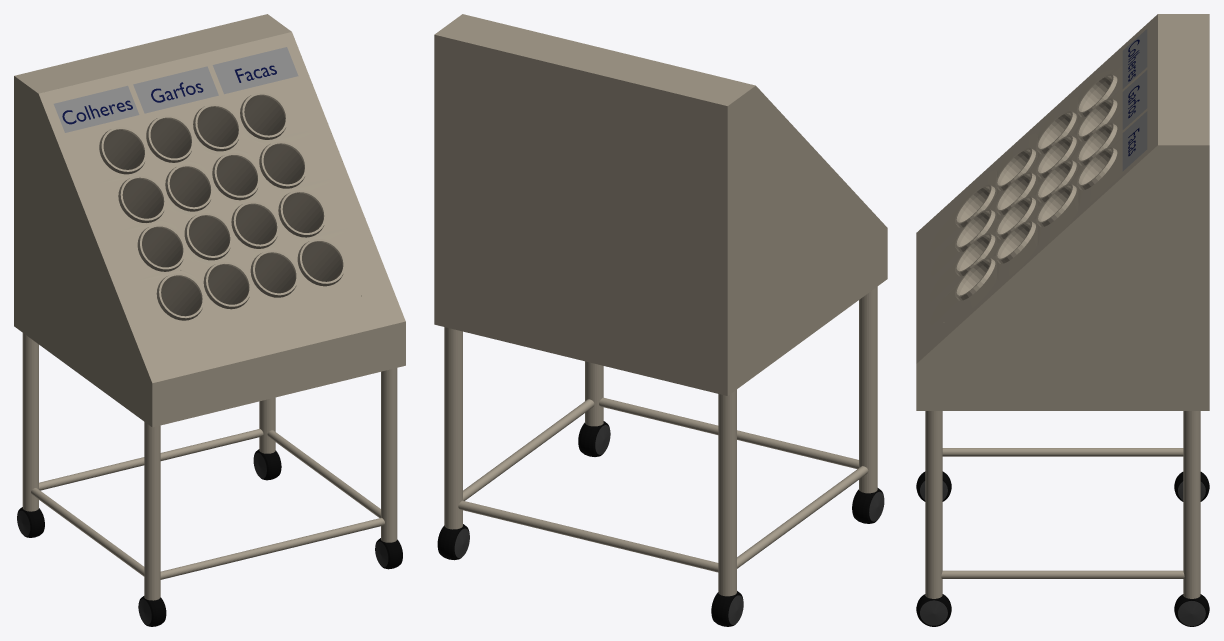
Rendered from Talheres.obj.
3 views of the same model, side by side, from view 1: azimuth 30°, elevation 25°; view 2: azimuth 150°, elevation 25°; view 3: azimuth 270°, elevation 25° (orthographic). The views are drawn at different scales.
Visible parts, largest first — view 1: Mesh.016_Mesh.031_Mesh.038_Mes, Mesh.024_Mesh.039_Mesh.031_Mes, Mesh.036_Mesh_Mesh.009_Circle., Mesh.017_Mesh.026_Mesh.013_Cir, Mesh_Mesh.015_Mesh.037_Cir, Mesh.005_Mesh.035_Mesh.014_Cir, Mesh.002_Mesh.002_Mesh.039_Cir, Mesh.003_Mesh.011_Mesh.002_Cir, Mesh.037_Mesh.029_Mesh.004_Cir, Mesh.025_Mesh.018_Mesh_Circle., Mesh.030_Mesh.004_Mesh.024_Cir, Mesh.010_Mesh.017_Mesh.008_Cir (+17 smaller); view 2: Mesh.016_Mesh.031_Mesh.038_Mes, Mesh.022_Mesh.033_Mesh.021_Cyl, Mesh.014_Mesh.014_Mesh.029_Cyl, Mesh.033_Mesh.006_Mesh.020_Cyl, Mesh.001_Mesh.023_Mesh.018_Cyl, Mesh.034_Mesh.037_Mesh.017_Cyl, Mesh.023_Mesh.022_Mesh.015_Cyl, Mesh.038_Mesh.001_Mesh.016_Cyl, Mesh.040_Mesh.019_Mesh.019_Cyl; view 3: Mesh.016_Mesh.031_Mesh.038_Mes, Mesh.024_Mesh.039_Mesh.031_Mes, Mesh.040_Mesh.019_Mesh.019_Cyl, Mesh.014_Mesh.014_Mesh.029_Cyl, Mesh.023_Mesh.022_Mesh.015_Cyl, Mesh.038_Mesh.001_Mesh.016_Cyl, Mesh.017_Mesh.026_Mesh.013_Cir, Mesh.036_Mesh_Mesh.009_Circle., Mesh.005_Mesh.035_Mesh.014_Cir, Mesh_Mesh.015_Mesh.037_Cir, Mesh.037_Mesh.029_Mesh.004_Cir, Mesh.003_Mesh.011_Mesh.002_Cir (+15 smaller).
Part boxes in pixels (x1,y1,x2,y2): Mesh.016_Mesh.031_Mesh.038_Mes: (14, 14, 405, 427); Mesh.024_Mesh.039_Mesh.031_Mes: (39, 32, 405, 383); Mesh.036_Mesh_Mesh.009_Circle.: (128, 270, 220, 353); Mesh.017_Mesh.026_Mesh.013_Cir: (293, 231, 369, 319); Mesh_Mesh.015_Mesh.037_Cir: (246, 131, 340, 198); Mesh.005_Mesh.035_Mesh.014_Cir: (230, 75, 316, 143); Mesh.002_Mesh.002_Mesh.039_Cir: (192, 252, 266, 341); Mesh.003_Mesh.011_Mesh.002_Cir: (247, 240, 314, 331); Mesh.037_Mesh.029_Mesh.004_Cir: (274, 181, 355, 248); Mesh.025_Mesh.018_Mesh_Circle.: (90, 170, 176, 232); Mesh.030_Mesh.004_Mesh.024_Cir: (108, 221, 195, 280); Mesh.010_Mesh.017_Mesh.008_Cir: (75, 116, 152, 183); Mesh.016_Mesh.031_Mesh.038_Mes: (434, 14, 887, 395); Mesh.022_Mesh.033_Mesh.021_Cyl: (718, 389, 736, 596); Mesh.014_Mesh.014_Mesh.029_Cyl: (444, 327, 462, 529); Mesh.033_Mesh.006_Mesh.020_Cyl: (859, 286, 877, 493); Mesh.001_Mesh.023_Mesh.018_Cyl: (458, 500, 718, 572); Mesh.034_Mesh.037_Mesh.017_Cyl: (599, 397, 858, 469); Mesh.023_Mesh.022_Mesh.015_Cyl: (463, 399, 594, 500); Mesh.038_Mesh.001_Mesh.016_Cyl: (737, 466, 868, 568); Mesh.040_Mesh.019_Mesh.019_Cyl: (585, 361, 603, 426); Mesh.016_Mesh.031_Mesh.038_Mes: (916, 14, 1209, 410); Mesh.024_Mesh.039_Mesh.031_Mes: (916, 14, 1157, 363); Mesh.040_Mesh.019_Mesh.019_Cyl: (925, 411, 942, 598); Mesh.014_Mesh.014_Mesh.029_Cyl: (1183, 411, 1200, 598); Mesh.023_Mesh.022_Mesh.015_Cyl: (941, 570, 1184, 578); Mesh.038_Mesh.001_Mesh.016_Cyl: (942, 448, 1183, 456); Mesh.017_Mesh.026_Mesh.013_Cir: (930, 256, 996, 326); Mesh.036_Mesh_Mesh.009_Circle.: (930, 170, 996, 253); Mesh.005_Mesh.035_Mesh.014_Cir: (1077, 137, 1123, 207); Mesh_Mesh.015_Mesh.037_Cir: (1034, 175, 1079, 246); Mesh.037_Mesh.029_Mesh.004_Cir: (992, 219, 1037, 281); Mesh.003_Mesh.011_Mesh.002_Cir: (929, 231, 1001, 302).
Bounding box in the file's own units: 1.8 × 3.1 × 1.7.
